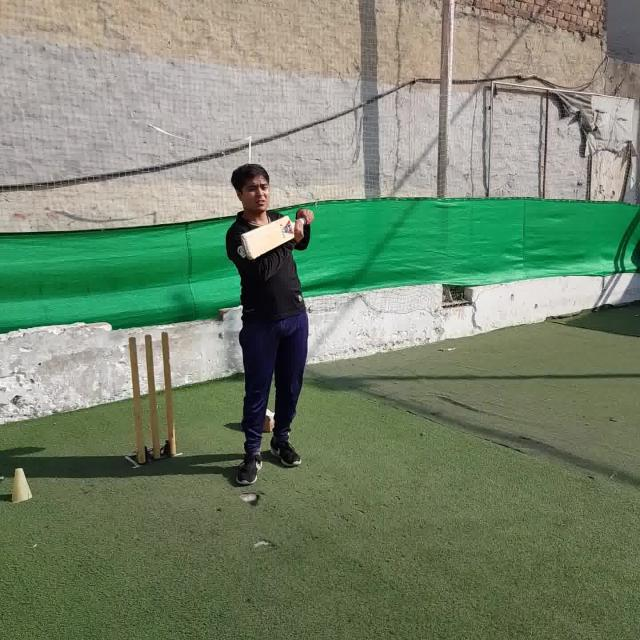bat: (238, 211, 314, 261)
